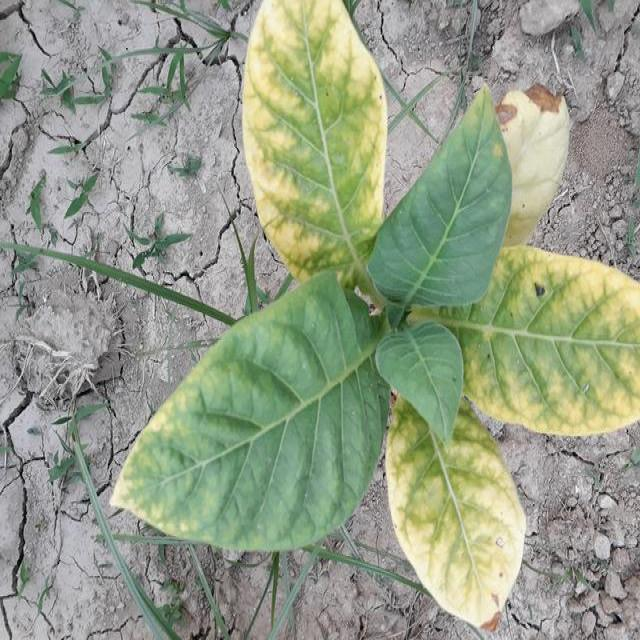crop: (123, 7, 640, 623)
